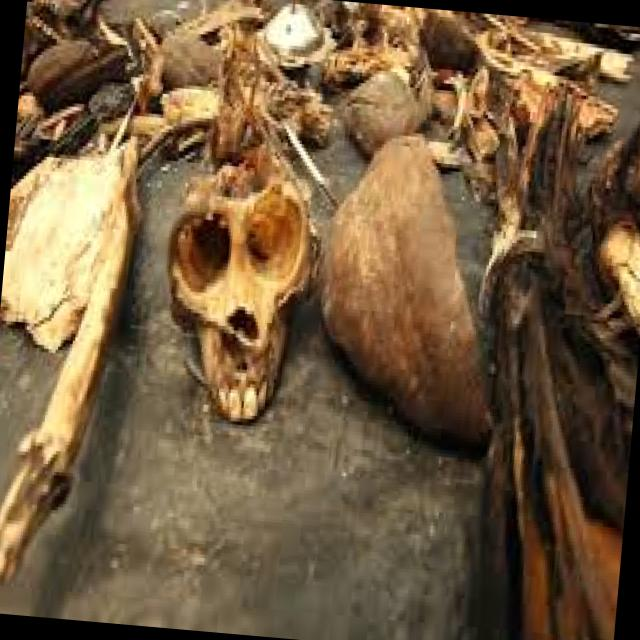animal: (0, 7, 625, 562)
